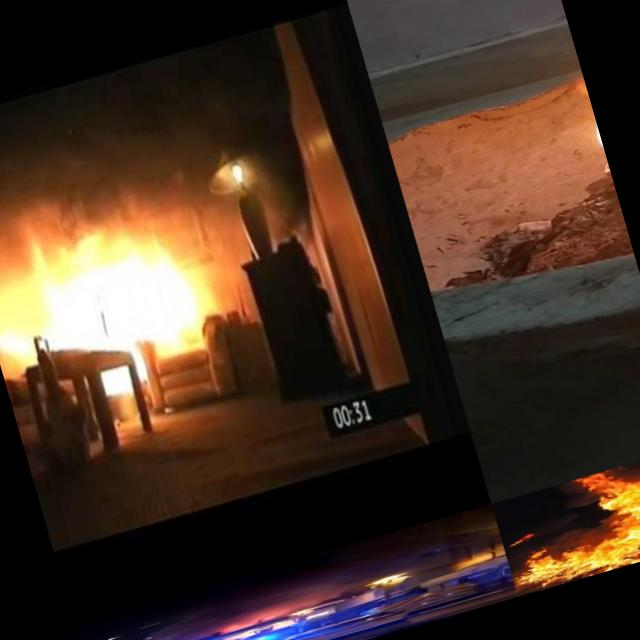fire: (0, 209, 219, 419), (503, 448, 640, 593), (202, 610, 280, 639)
smoke: (112, 570, 347, 640)
